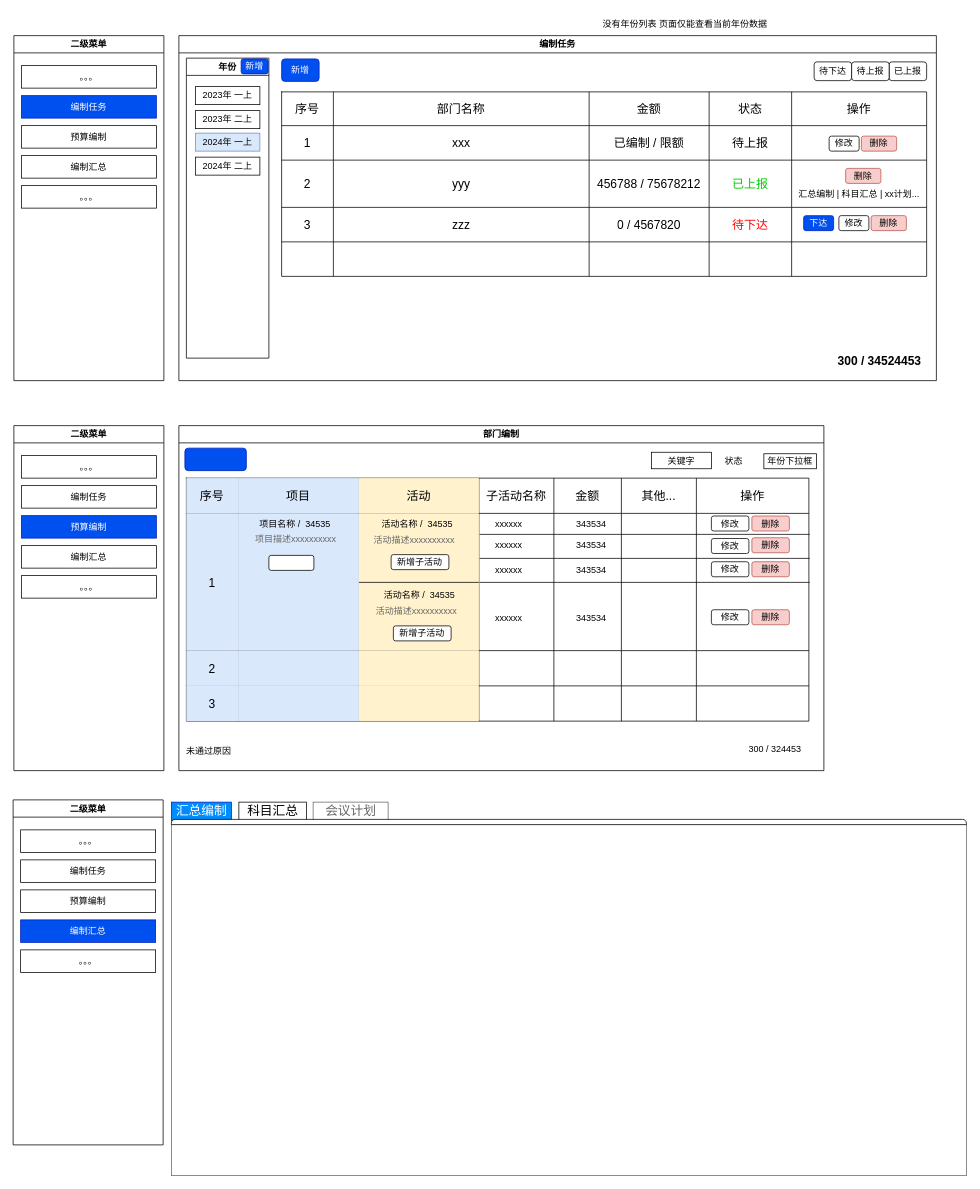
Some shapes in this 980 by 1189 pixel diagram are drawn without their labels. The shapes that lost their labels are listed below. From the top down, each one's centre as x and y in pixels, then its label:
(215,459): 新增项目
(291,562): 新增活动
